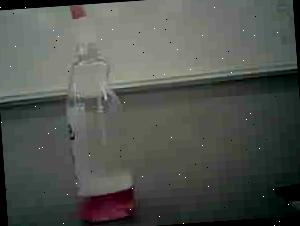hazard: (46, 0, 156, 226)
